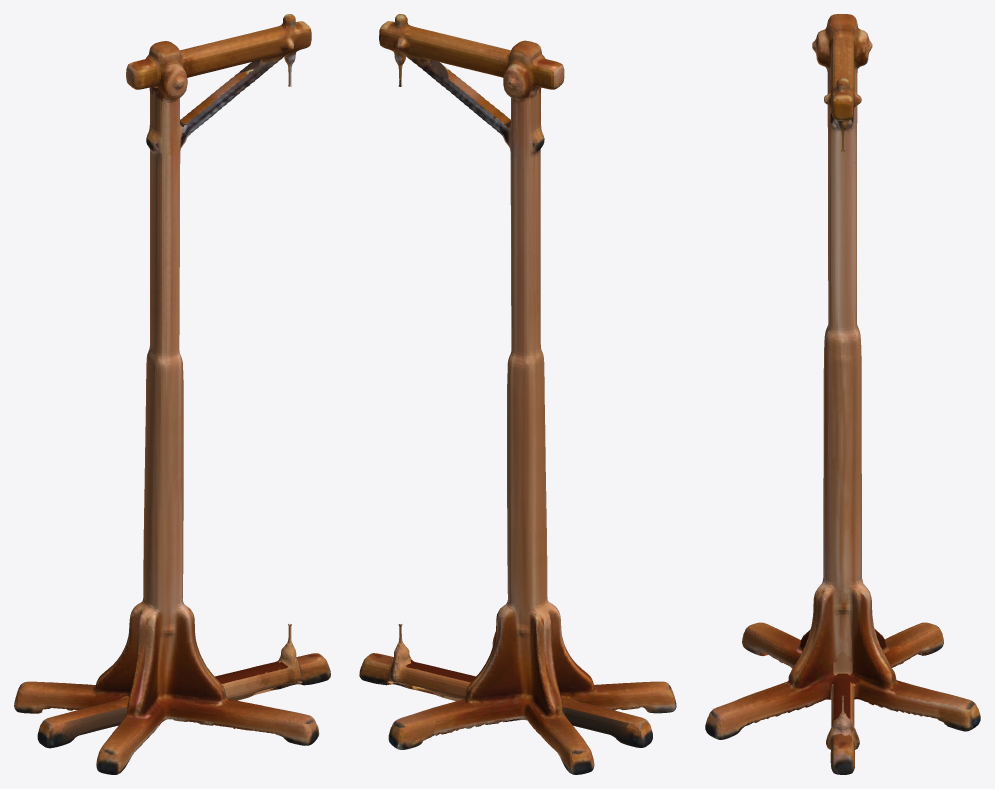
Rendered from mdl_guillotine_001.glb.
3 views of the same model, side by side, from view 1: azimuth 30°, elevation 25°; view 2: azimuth 150°, elevation 25°; view 3: azimuth 270°, elevation 25° (orthographic).
Visible parts, largest first — view 1: tmp7l8n_okx.ply; view 2: tmp7l8n_okx.ply; view 3: tmp7l8n_okx.ply.
Boxes of the visible parts, x1,y1,x2,y2 form: tmp7l8n_okx.ply: (14, 14, 330, 774); tmp7l8n_okx.ply: (359, 14, 676, 774); tmp7l8n_okx.ply: (705, 14, 980, 774).
Bounding box in the file's own units: 0.4404 × 0.9914 × 0.3637.
Materials: 1 (1 with a texture image).
